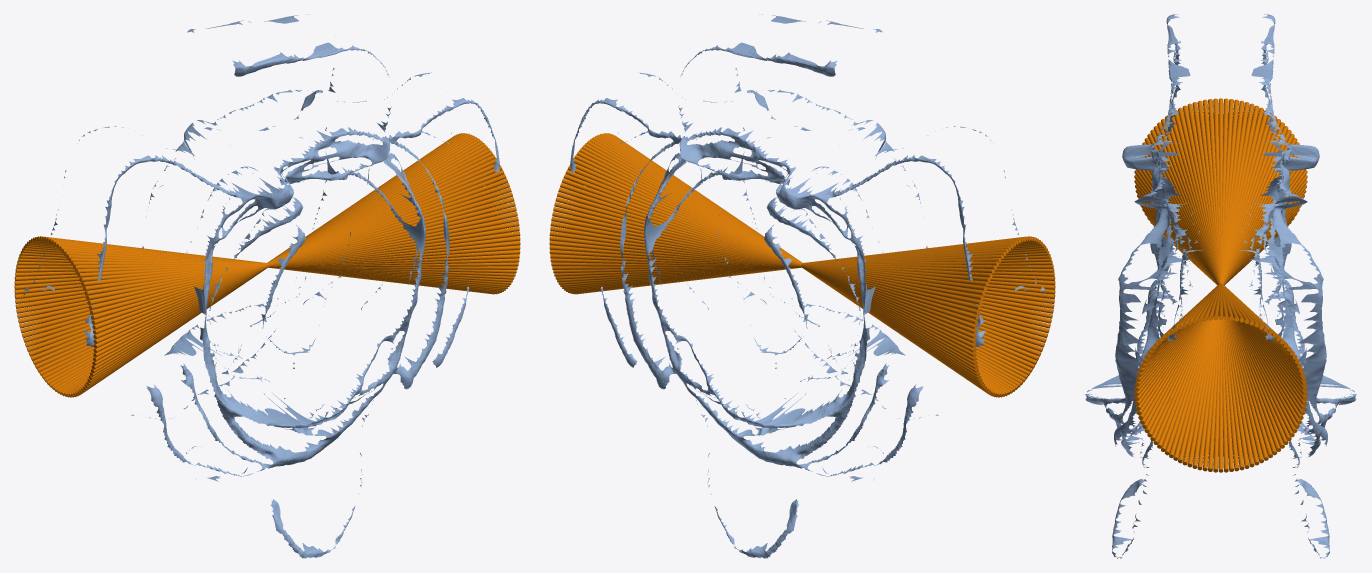
Rendered from A20023526_6145-37-528-7088_DigitalTwin.glb.
The picture shows the model from 3 angles, left to right: view 1: azimuth 30°, elevation 25°; view 2: azimuth 150°, elevation 25°; view 3: azimuth 270°, elevation 25°; orthographic projection. The views are drawn at different scales.
Parts seen in each view (by area): view 1: world; view 2: world; view 3: world.
Boxes of the visible parts, left/top/right/bottom form: world: left=14, top=14, right=520, bottom=558; world: left=549, top=14, right=1055, bottom=558; world: left=1085, top=14, right=1356, bottom=558.
Size of the model in its own units: 430 by 469 by 227.
